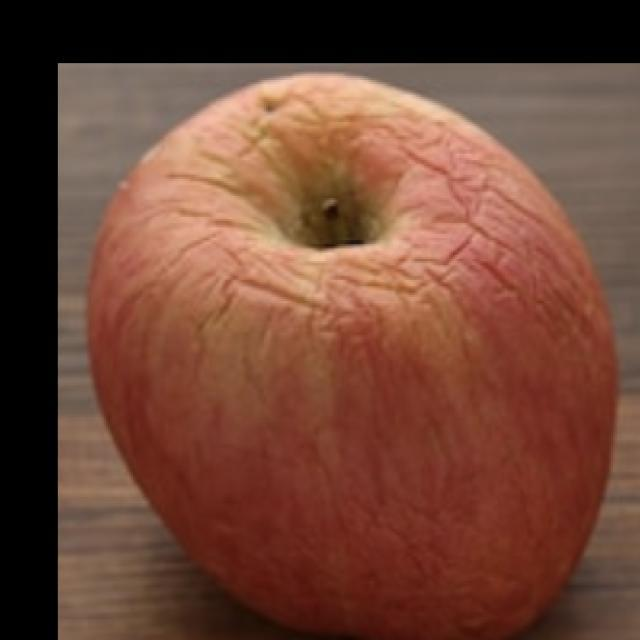Rotten: (81, 68, 619, 640)
